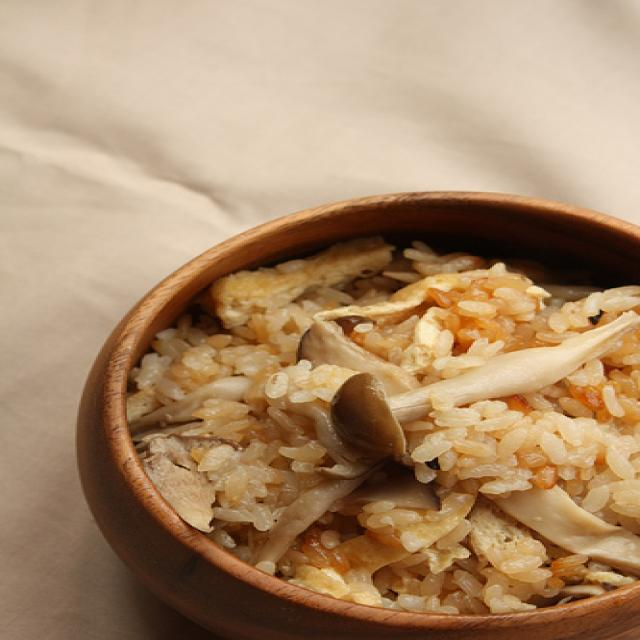米饭主食: (129, 256, 640, 604)
